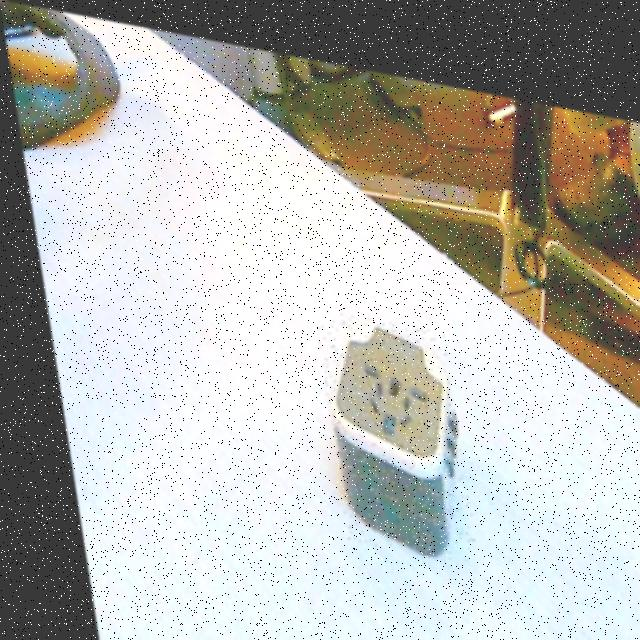adapter: (304, 297, 464, 550)
